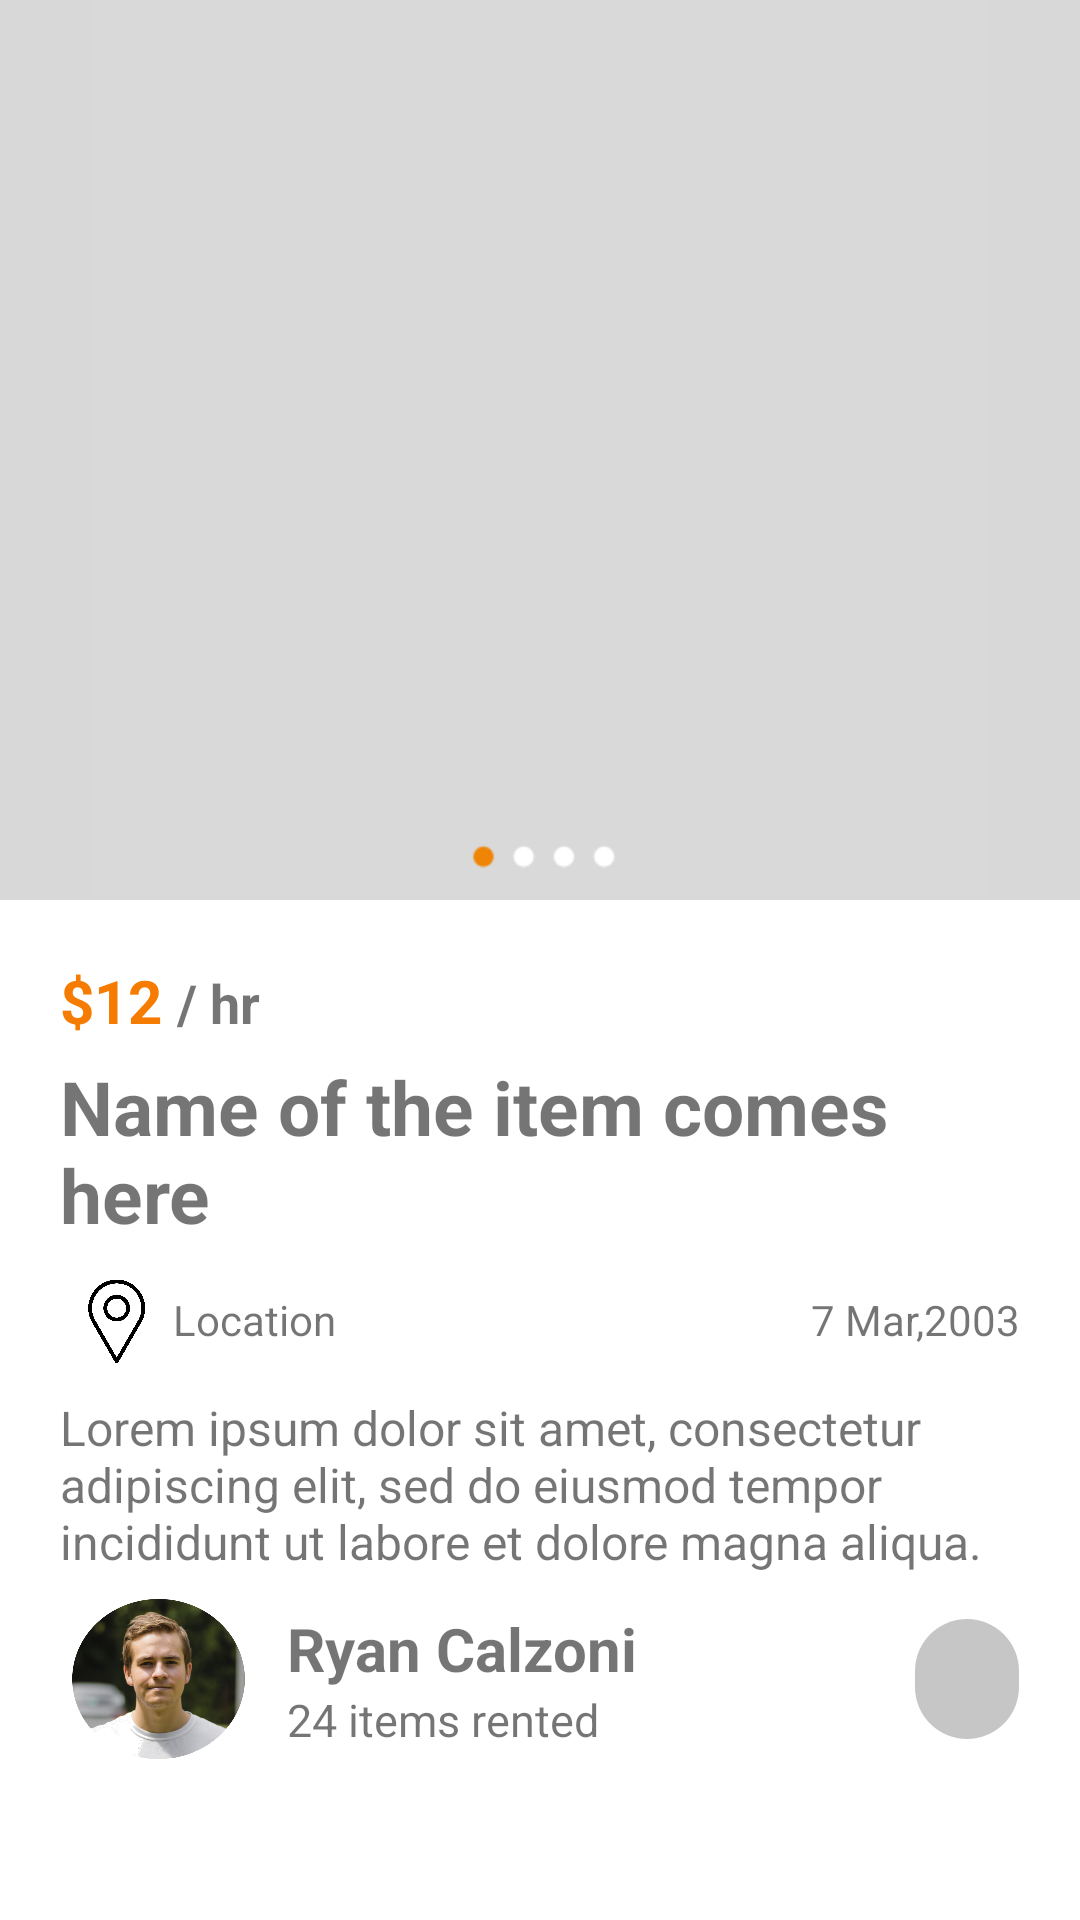

Icons on this 1080×1920 Android screen, each with the point to tap as (x=x, y=y):
person: (x=158, y=1679)
